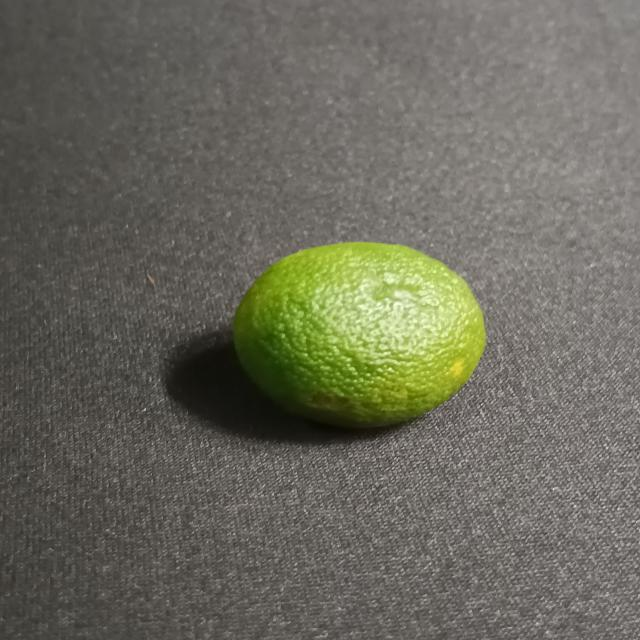heathy: (222, 236, 492, 435)
